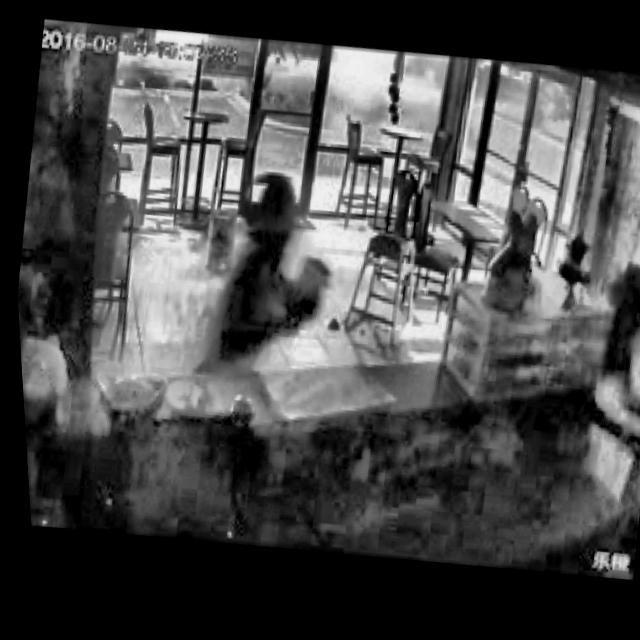burglary: (179, 147, 355, 400), (569, 261, 640, 429)
